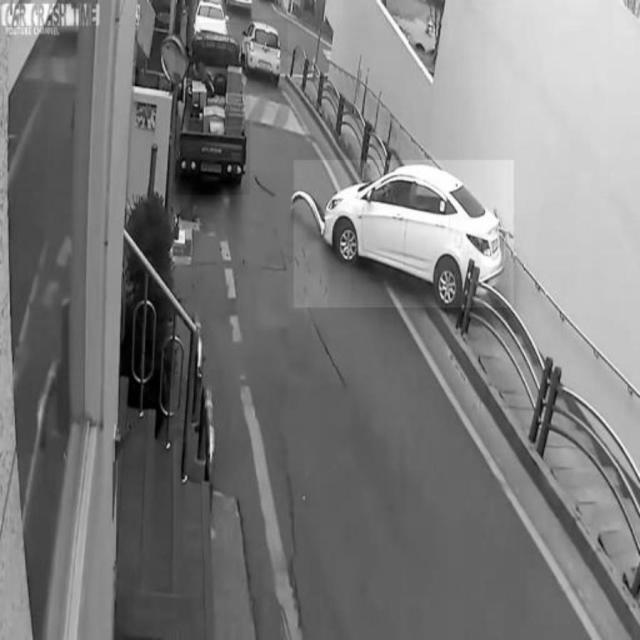accident: (294, 161, 514, 308)
vehicle: (175, 23, 249, 195), (241, 19, 288, 92)
